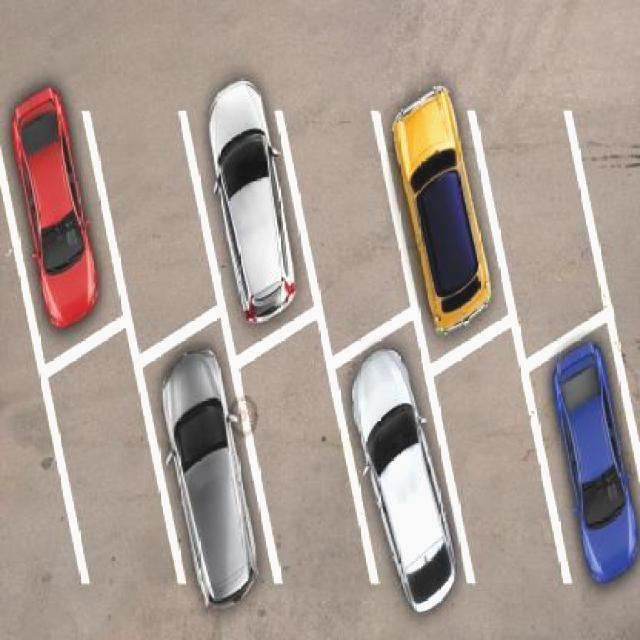space-empty: (52, 354, 151, 583), (111, 99, 197, 315), (255, 353, 341, 569), (451, 369, 545, 562), (310, 117, 390, 322), (505, 111, 576, 330)
space-occupied: (350, 355, 461, 615), (159, 339, 258, 616), (393, 66, 493, 322), (8, 83, 97, 337), (544, 344, 640, 575), (208, 75, 294, 321)
